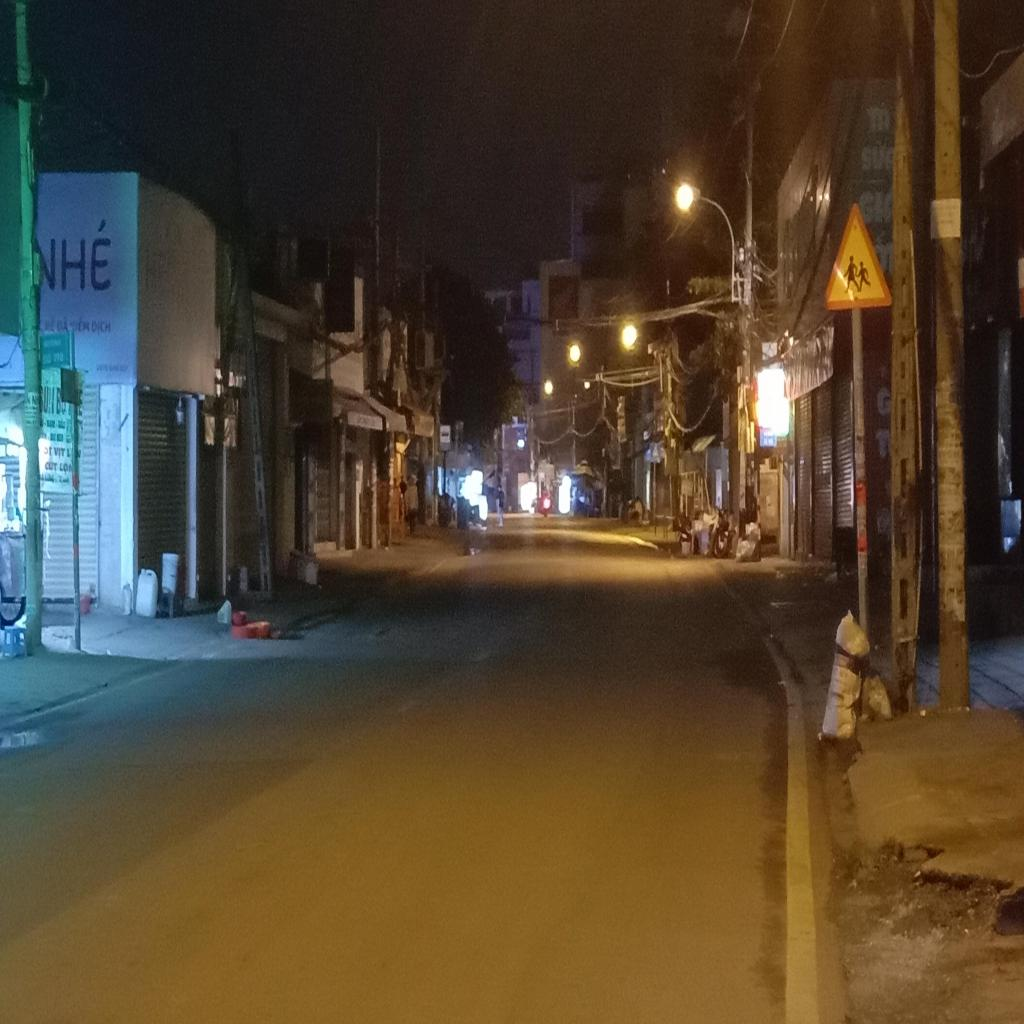chu_y_tre_em: (822, 200, 894, 315)
